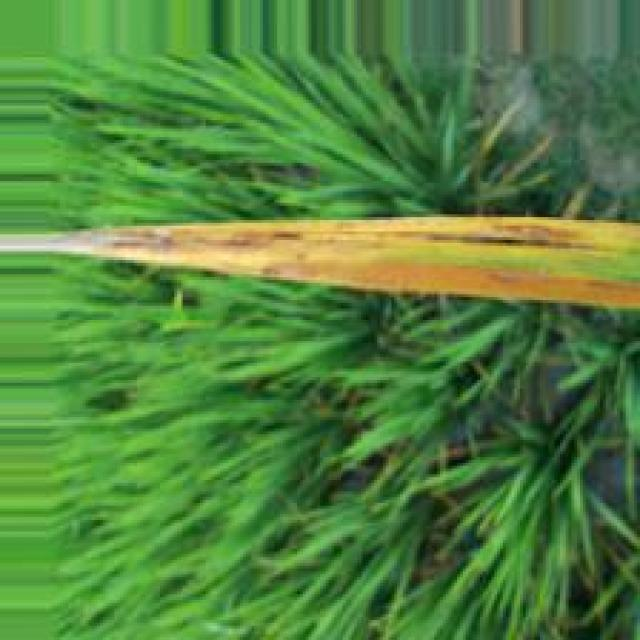Bacterial_Leaf_Blight: (227, 260, 640, 307), (63, 221, 391, 256), (388, 219, 617, 263)
